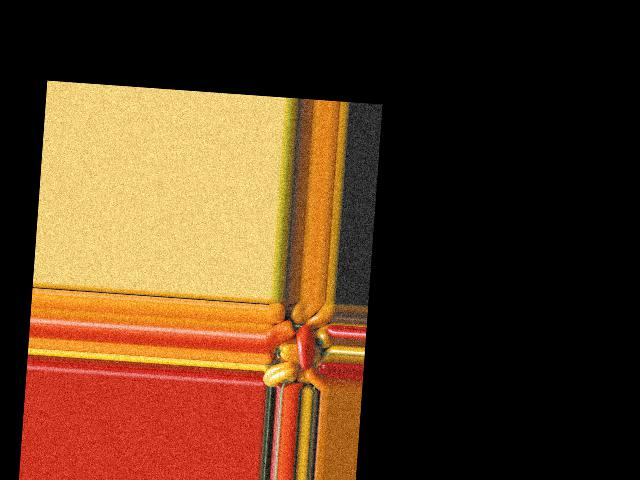bell_pepper: (263, 358, 296, 389)
